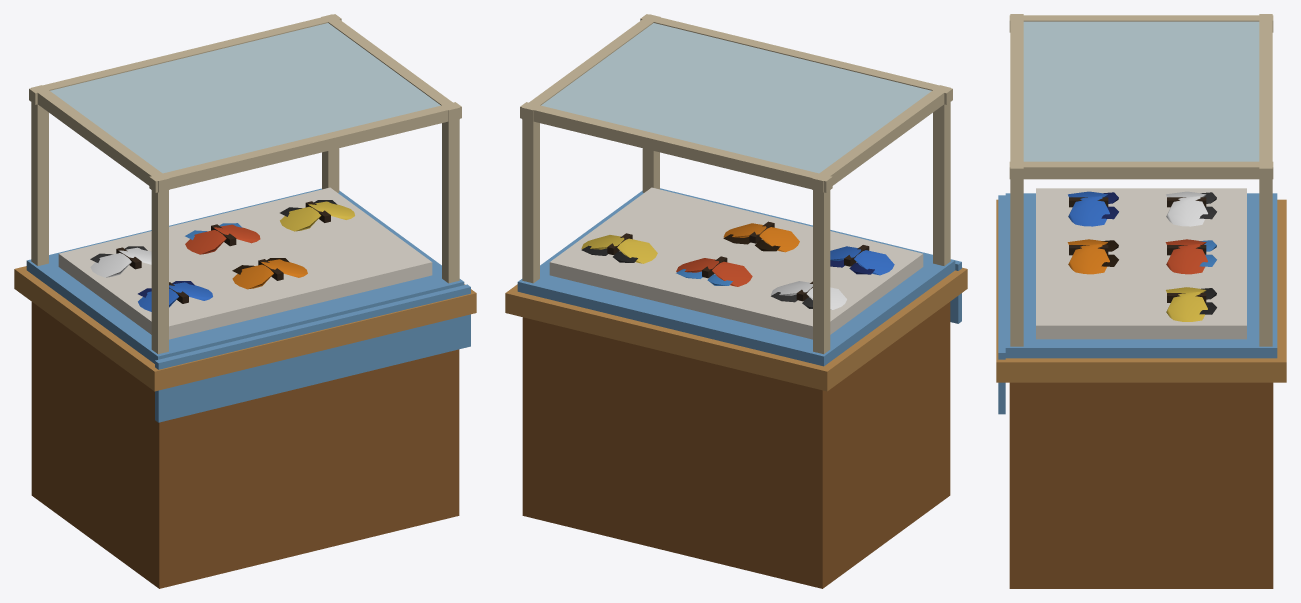
Rendered from butterflies_display.glb.
The picture shows the model from 3 angles, left to right: view 1: azimuth 30°, elevation 25°; view 2: azimuth 150°, elevation 25°; view 3: azimuth 270°, elevation 25°; orthographic projection. The views are drawn at different scales.
Parts seen in each view (by area): view 1: decor-butterflies_display; view 2: decor-butterflies_display; view 3: decor-butterflies_display.
Part boxes in pixels (left/top/right/bottom): decor-butterflies_display: left=14, top=14, right=476, bottom=588; decor-butterflies_display: left=505, top=14, right=967, bottom=588; decor-butterflies_display: left=996, top=14, right=1286, bottom=588.
Size of the model in its own units: 1.02 by 1.24 by 0.77.
